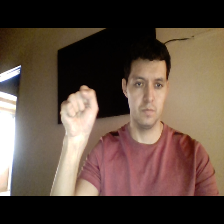9D: (56, 83, 101, 143)
